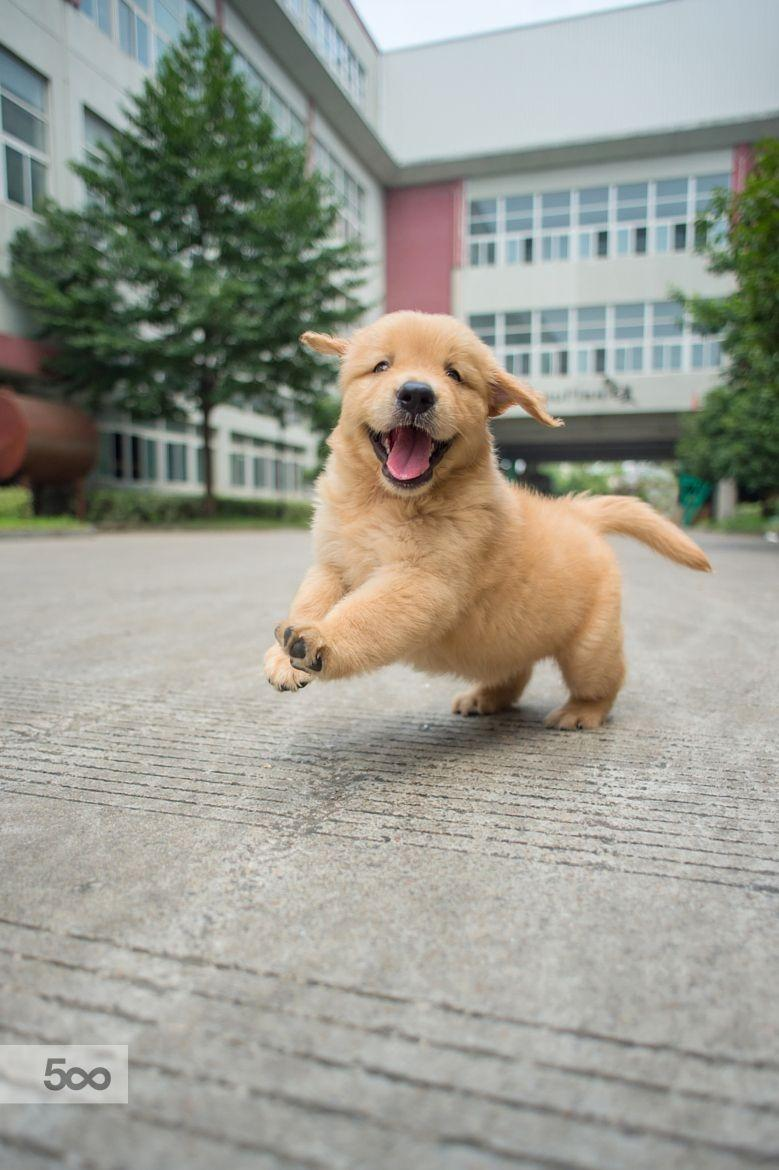puppy-dog: (263, 309, 716, 731)
